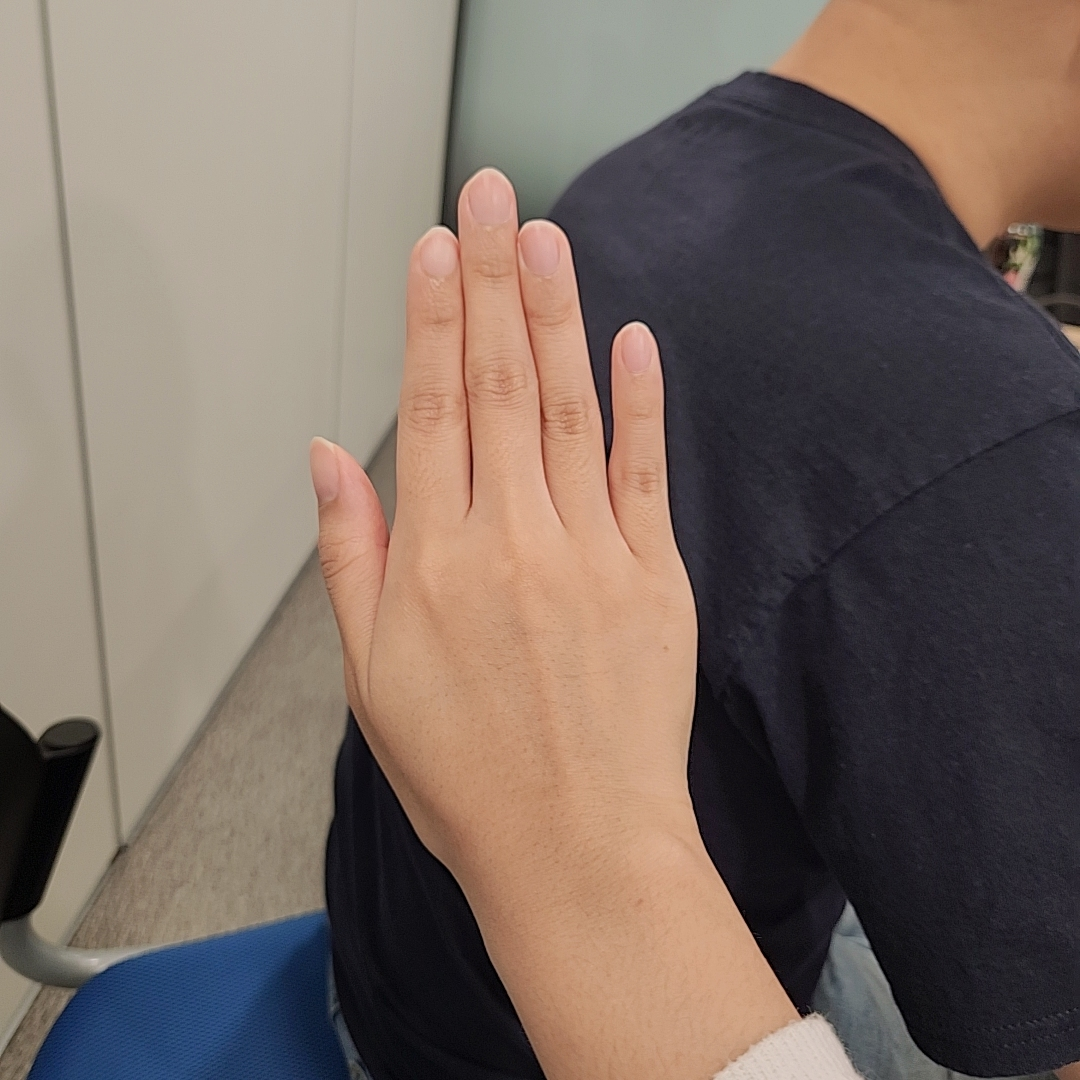me: (308, 166, 698, 881)
